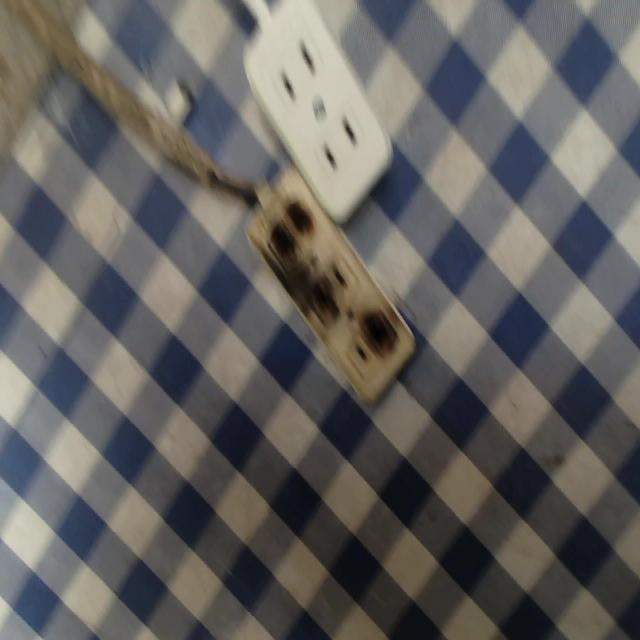-: (262, 196, 319, 265), (356, 306, 405, 371), (304, 276, 342, 327)
